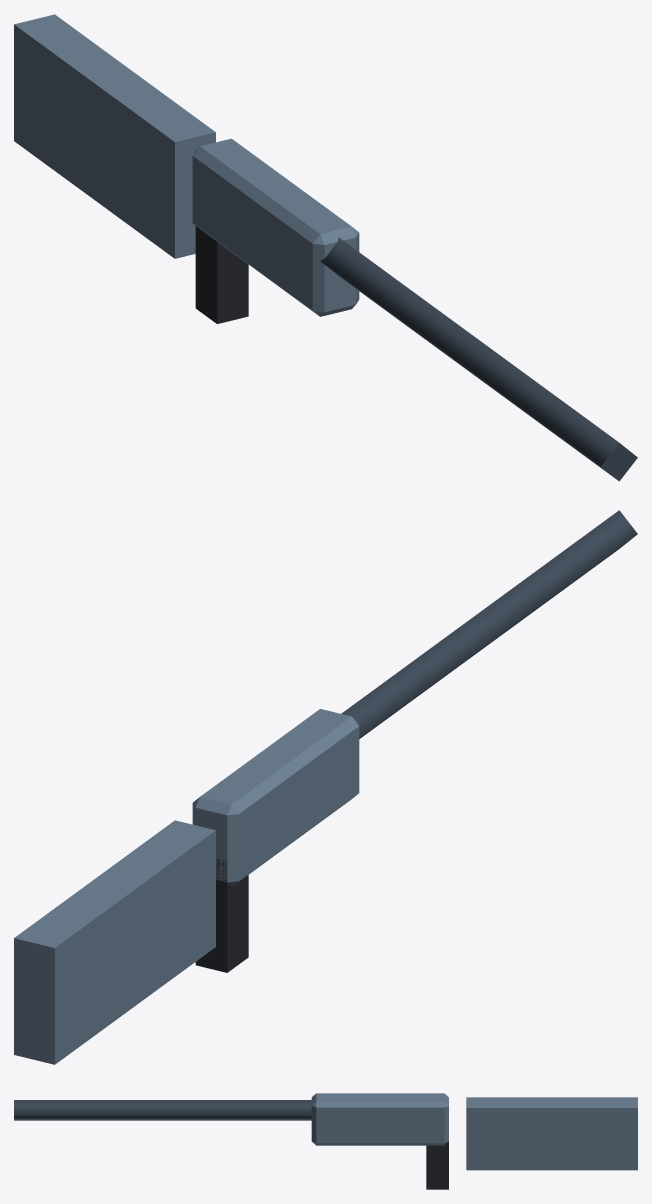
3 views of the same model, one above another, from view 1: azimuth 30°, elevation 25°; view 2: azimuth 150°, elevation 25°; view 3: azimuth 270°, elevation 25° (orthographic). The views are drawn at different scales.
Visible parts, largest first — view 1: dweller_weapon_shotgun; view 2: dweller_weapon_shotgun; view 3: dweller_weapon_shotgun.
Part boxes in pixels (x1,y1,x2,y2): dweller_weapon_shotgun: (14,14,637,481); dweller_weapon_shotgun: (14,510,637,1064); dweller_weapon_shotgun: (14,1093,637,1189).
Bounding box in the file's own units: 0.05 × 0.17 × 1.09.
